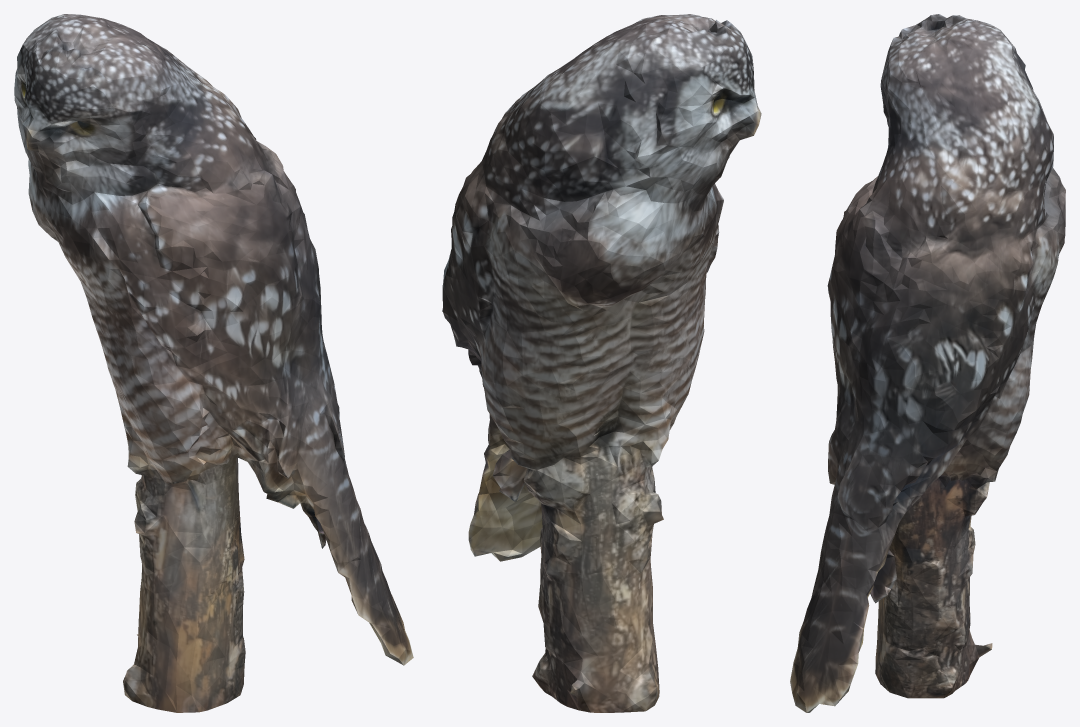
File: HawkOwl5K.fbx
The picture shows the model from 3 angles, left to right: view 1: azimuth 30°, elevation 25°; view 2: azimuth 150°, elevation 25°; view 3: azimuth 270°, elevation 25°; orthographic projection. The views are drawn at different scales.
Parts seen in each view (by area): view 1: HawkOwl5k.002; view 2: HawkOwl5k.002; view 3: HawkOwl5k.002.
Boxes of the visible parts, bbox=[...] form: HawkOwl5k.002: bbox=[14, 14, 413, 712]; HawkOwl5k.002: bbox=[442, 14, 761, 712]; HawkOwl5k.002: bbox=[790, 14, 1065, 712].
Bounding box in the file's own units: 20.63 × 40.83 × 16.61.
1 material, 1 textured.
